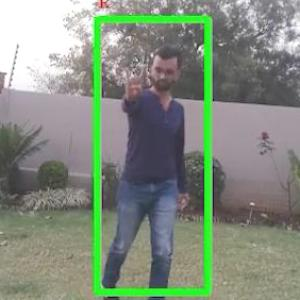takeoff-hand: (118, 65, 150, 105)
